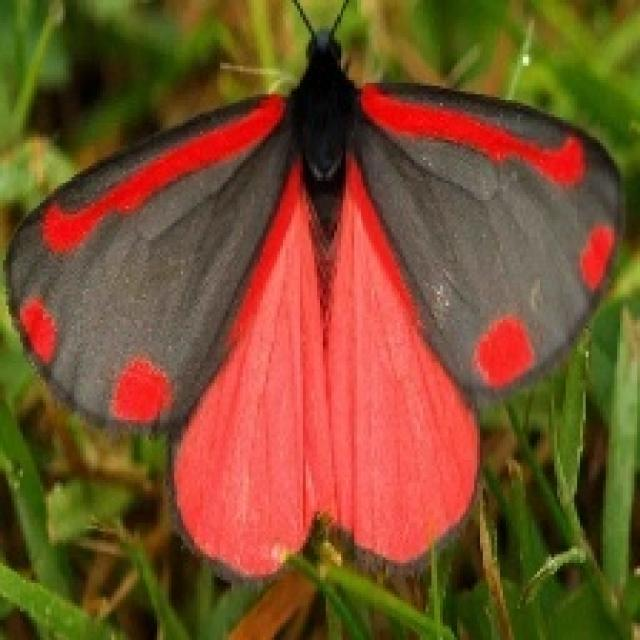butterfly: (0, 0, 626, 583)
